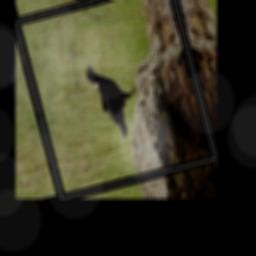Crow: (83, 54, 148, 145)
